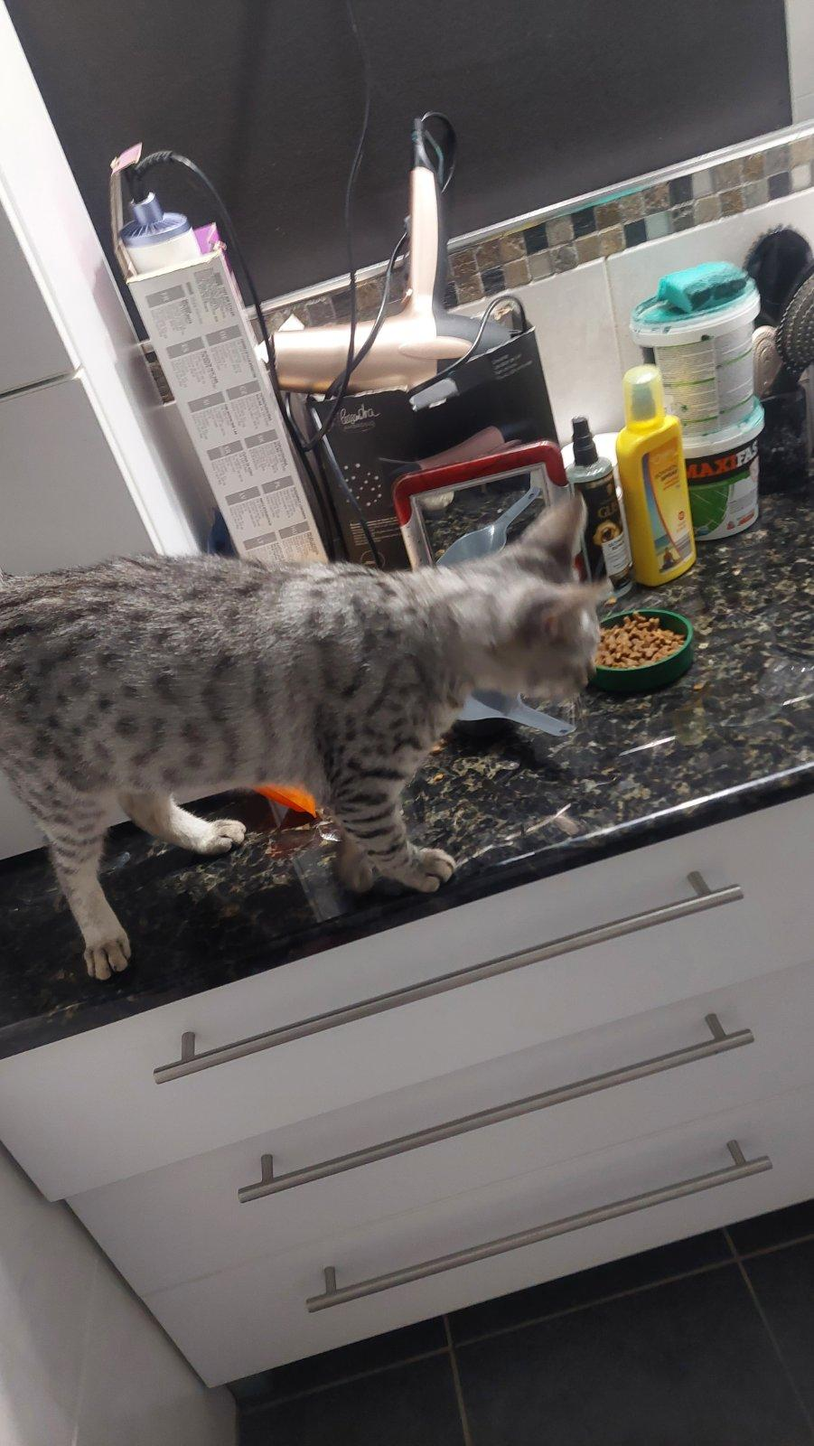macka: (0, 478, 613, 980)
